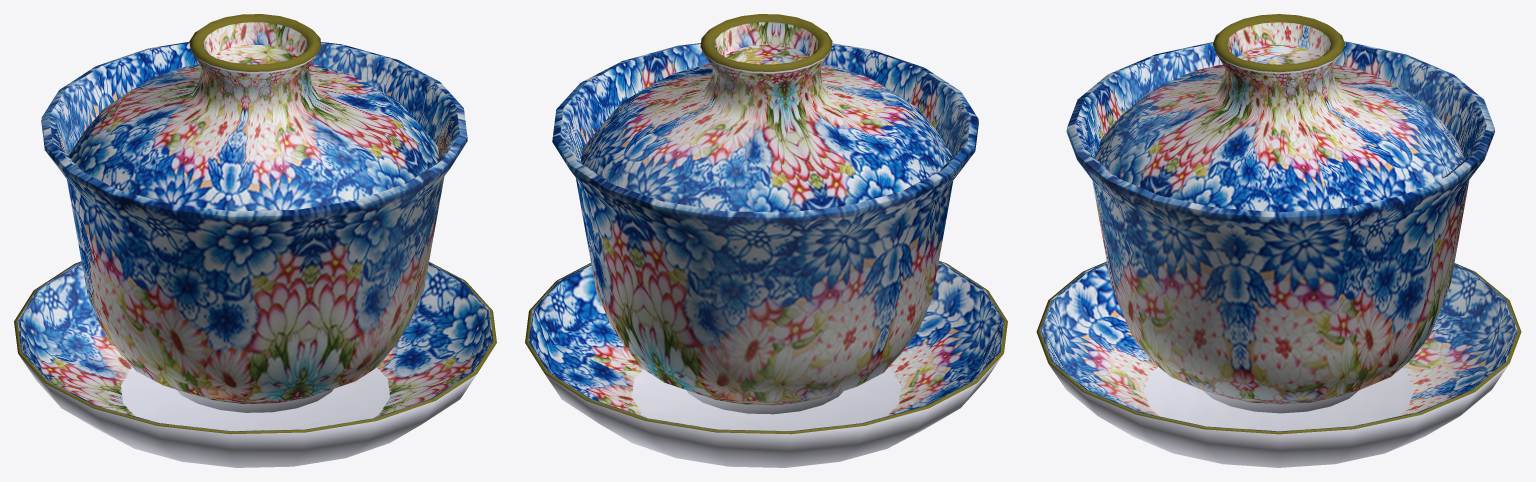
File: wan07.FBX
The picture shows the model from 3 angles, left to right: view 1: azimuth 30°, elevation 25°; view 2: azimuth 150°, elevation 25°; view 3: azimuth 270°, elevation 25°; orthographic projection.
Parts seen in each view (by area): view 1: pCylinder5, pCylinder6, pCylinder7; view 2: pCylinder5, pCylinder6, pCylinder7; view 3: pCylinder5, pCylinder6, pCylinder7.
Boxes of the visible parts, x1,y1,x2,y2 form: pCylinder5: (41,41,467,412); pCylinder6: (68,14,439,211); pCylinder7: (14,261,496,467); pCylinder5: (552,43,978,414); pCylinder6: (581,14,951,212); pCylinder7: (525,261,1007,467); pCylinder5: (1066,41,1494,413); pCylinder6: (1095,14,1464,212); pCylinder7: (1036,261,1521,467).
Size of the model in its own units: 119 by 101 by 119.
